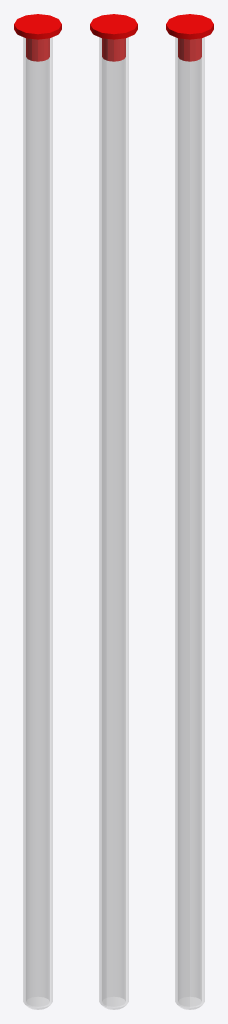
File: nmr_tube.glb
3 renders of one model, left to right at view 1: azimuth 30°, elevation 25°; view 2: azimuth 150°, elevation 25°; view 3: azimuth 330°, elevation 25°, orthographic.
Parts seen in each view (by area): view 1: nmr_tube; view 2: nmr_tube; view 3: nmr_tube.
Boxes of the visible parts, box(x1,y1,x2,y2) form: nmr_tube: box(14, 14, 61, 1009); nmr_tube: box(90, 14, 137, 1009); nmr_tube: box(166, 14, 213, 1009).
Bounding box in the file's own units: 0.008 × 0.181 × 0.008.
